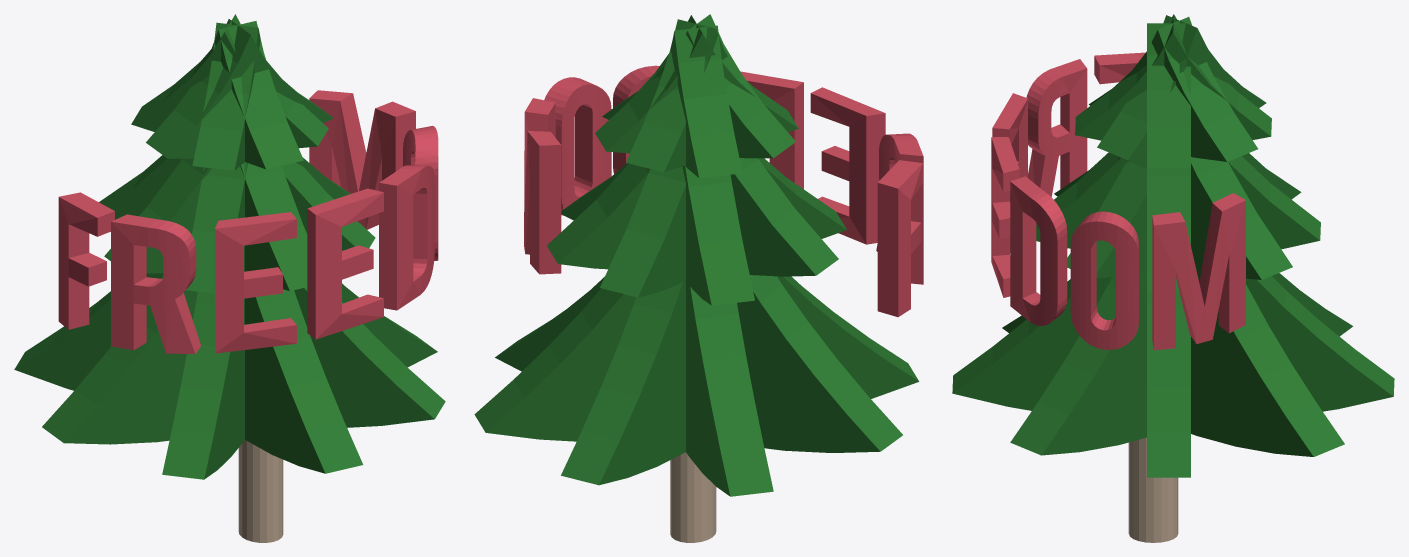
Rendered from Tonygratitudtree.glb.
3 renders of one model, left to right at view 1: azimuth 30°, elevation 25°; view 2: azimuth 150°, elevation 25°; view 3: azimuth 270°, elevation 25°, orthographic. The views are drawn at different scales.
Parts seen in each view (by area): view 1: Mesh_Mesh_head_geo.001_lambert2SG.001; view 2: Mesh_Mesh_head_geo.001_lambert2SG.001; view 3: Mesh_Mesh_head_geo.001_lambert2SG.001.
Part boxes in pixels (<box>): Mesh_Mesh_head_geo.001_lambert2SG.001: <box>14,14,445,542</box>; Mesh_Mesh_head_geo.001_lambert2SG.001: <box>474,14,923,542</box>; Mesh_Mesh_head_geo.001_lambert2SG.001: <box>952,14,1394,542</box>.
Size of the model in its own units: 70.2 by 90 by 71.54.
